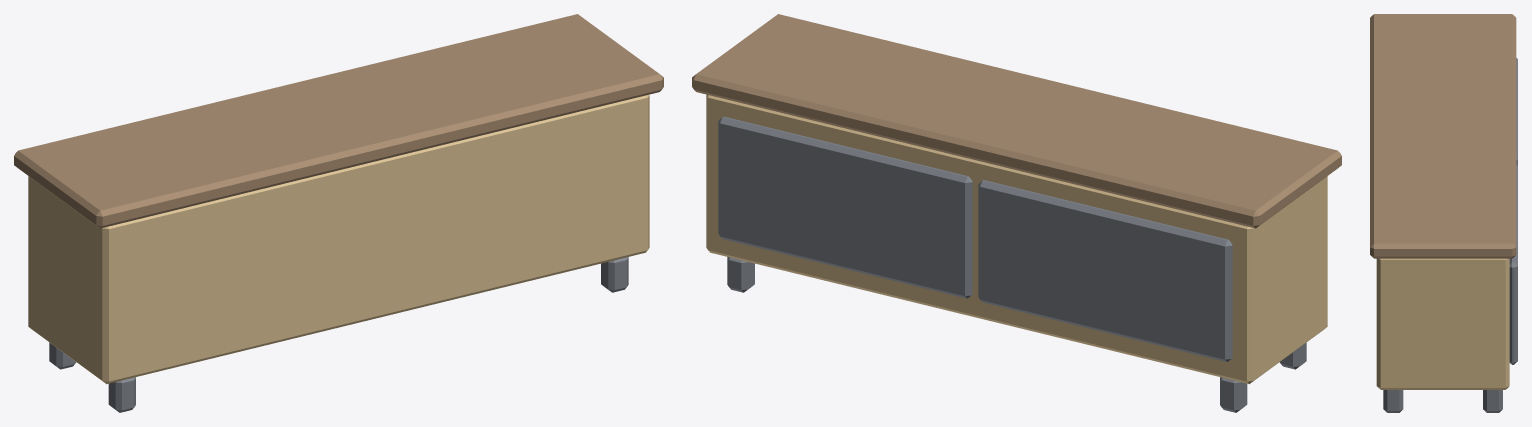
The model's file is 家具_电视柜_01.fbx.
The picture shows the model from 3 angles, left to right: view 1: azimuth 30°, elevation 25°; view 2: azimuth 150°, elevation 25°; view 3: azimuth 270°, elevation 25°; orthographic projection. The views are drawn at different scales.
Visible parts, largest first — view 1: 柜体.001, 顶板, 柜脚; view 2: 门板, 顶板, 柜体.001, 柜脚; view 3: 顶板, 柜体.001, 门板, 柜脚.
Part boxes in pixels (x1=…): 柜体.001: x1=28, y1=94, x2=649, y2=384; 顶板: x1=14, y1=14, x2=663, y2=228; 柜脚: x1=49, y1=257, x2=628, y2=412; 门板: x1=718, y1=116, x2=1232, y2=361; 顶板: x1=692, y1=14, x2=1341, y2=228; 柜体.001: x1=706, y1=94, x2=1327, y2=384; 柜脚: x1=727, y1=257, x2=1306, y2=412; 顶板: x1=1370, y1=14, x2=1516, y2=258; 柜体.001: x1=1376, y1=258, x2=1509, y2=389; 门板: x1=1509, y1=58, x2=1517, y2=364; 柜脚: x1=1383, y1=390, x2=1502, y2=412.
Size of the model in its own units: 166 by 60 by 44.5.
